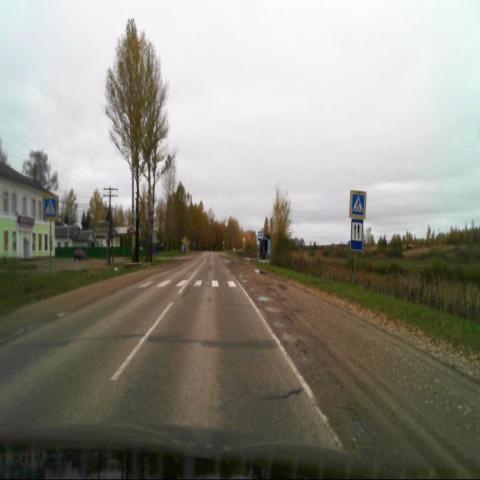7_7: (350, 220, 364, 251)
